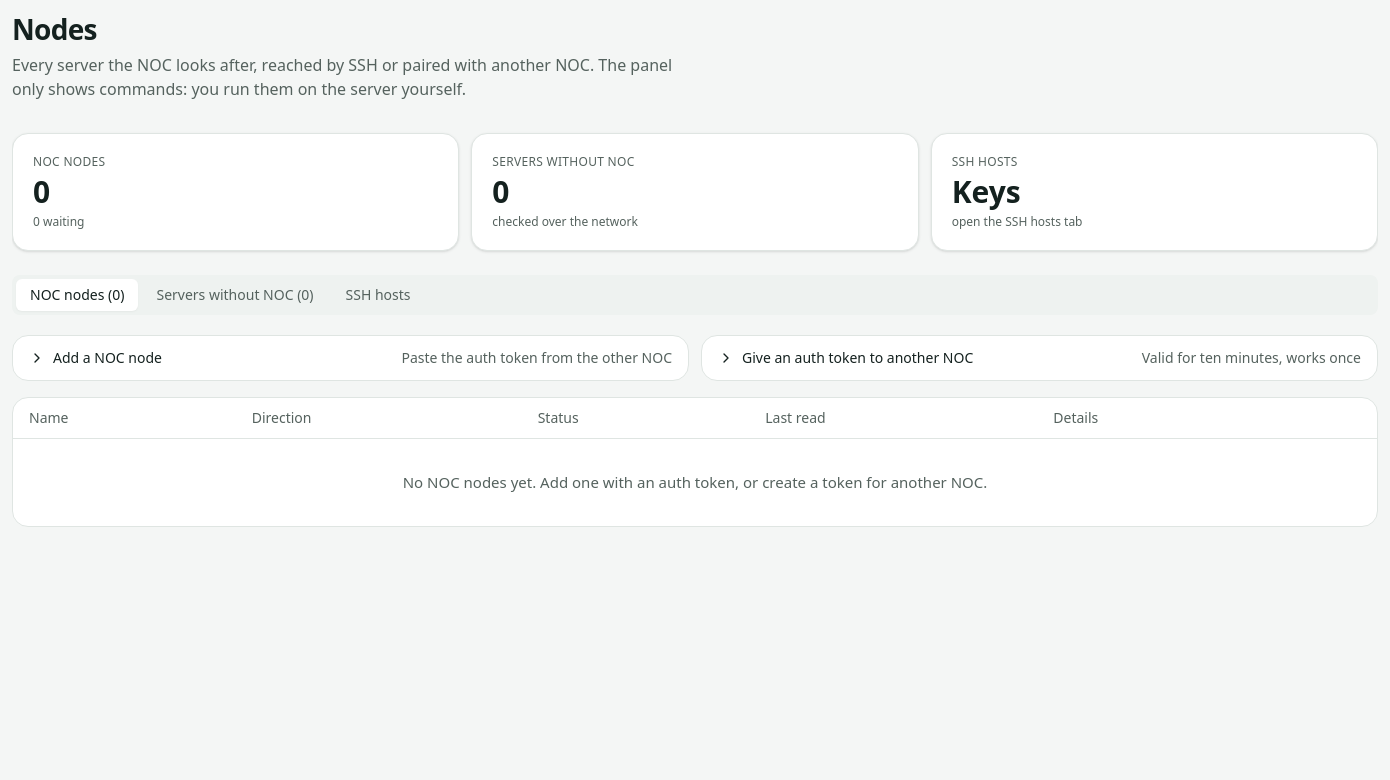
Test: FleetPage › warns when the secrets folder is not persistent
Press the mouse on the tab "SSH hosts" at (378, 295), box x1=332 y1=279 x2=425 y2=311
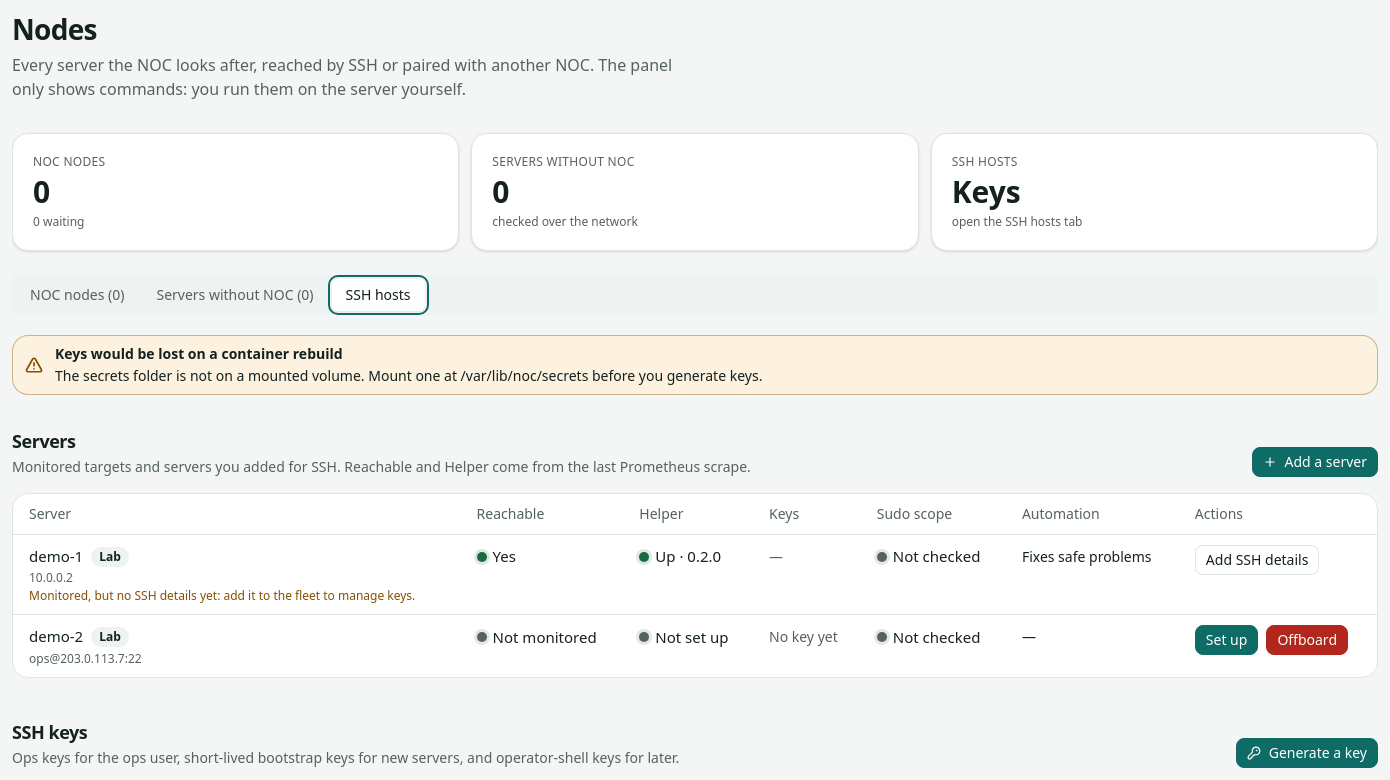
expect the text "Keys would be lost on a container rebuild" is shown: met, box x1=55 y1=344 x2=343 y2=363
